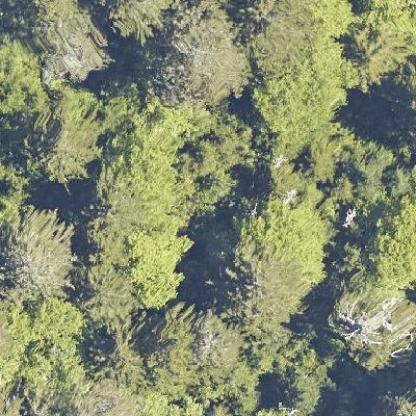tree-top: (0, 293, 88, 388), (252, 71, 340, 161), (147, 22, 248, 99), (327, 283, 415, 369), (29, 85, 106, 182), (0, 208, 77, 303), (180, 115, 261, 204), (220, 246, 298, 330), (127, 218, 191, 318), (38, 10, 110, 88), (235, 201, 331, 256), (107, 116, 173, 194), (236, 1, 308, 70), (142, 312, 196, 384), (368, 195, 415, 276), (345, 22, 405, 77), (0, 32, 38, 115), (78, 264, 136, 316), (61, 379, 136, 415), (192, 313, 240, 365), (375, 387, 415, 415)
